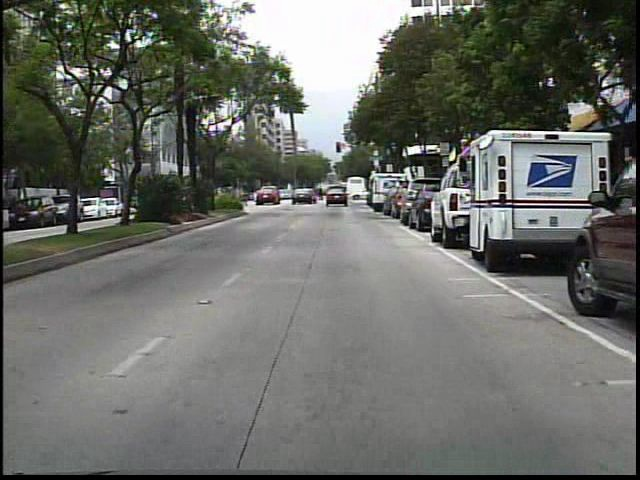person: (300, 182, 317, 206), (318, 184, 326, 203)
